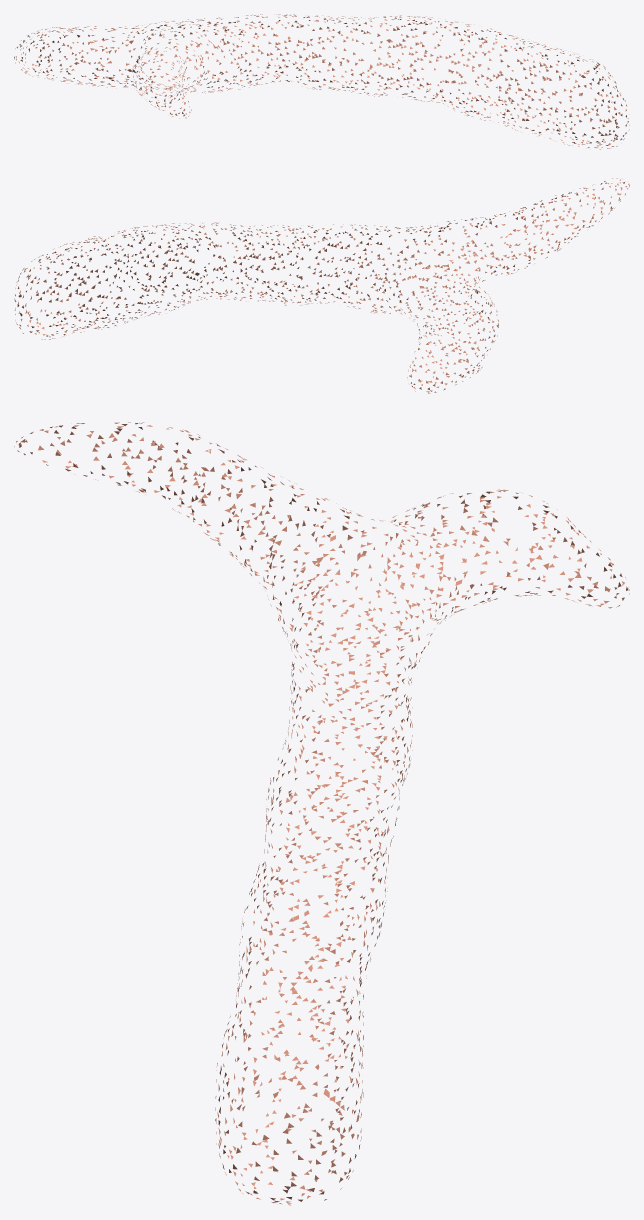
File: morph_003.glb
The picture shows the model from 3 angles, top to bottom: view 1: azimuth 30°, elevation 25°; view 2: azimuth 150°, elevation 25°; view 3: azimuth 270°, elevation 25°; orthographic projection. The views are drawn at different scales.
Size of the model in its own units: 122 by 50.34 by 73.51.
